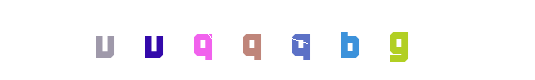B: (285, 0, 365, 80)
G: (359, 0, 439, 80)
Q: (163, 0, 243, 80), (212, 0, 292, 80), (227, 0, 307, 80)
U: (97, 0, 177, 80), (113, 0, 193, 80)
